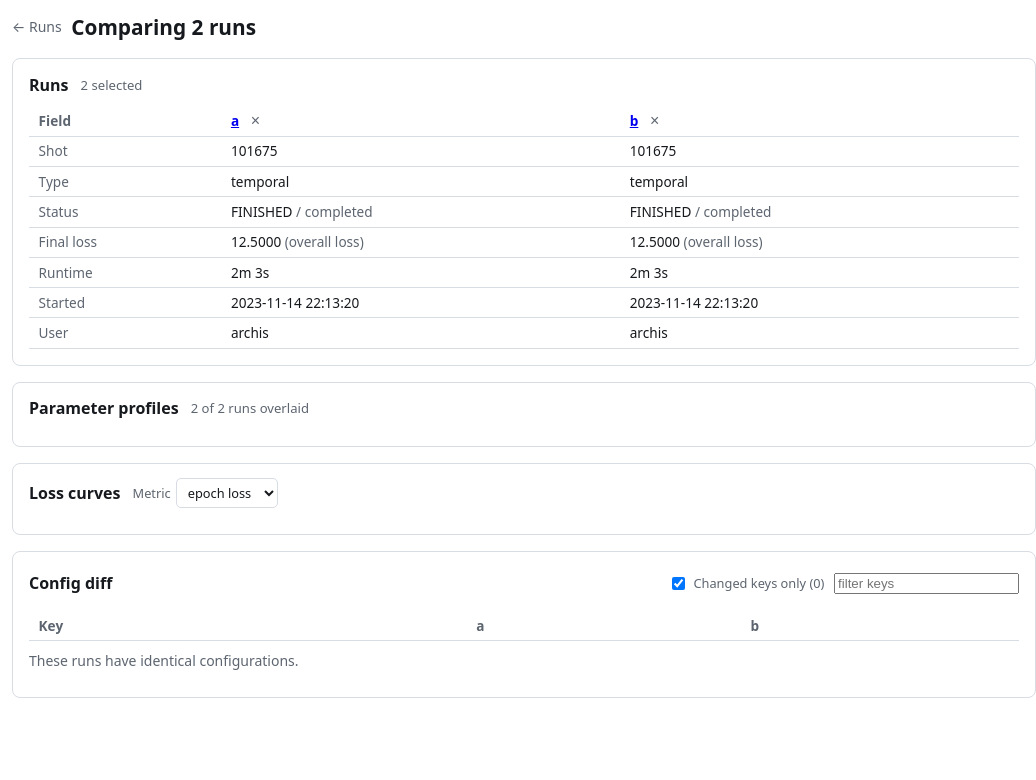
Test: summary table › removing a run rewrites the URL rather than hiding it locally
Check: the heading "Comparing 2 runs" is shown, box [71,12,256,42]
Click the button named "Remove a from the comparison": (255, 121) [245,112,266,130]
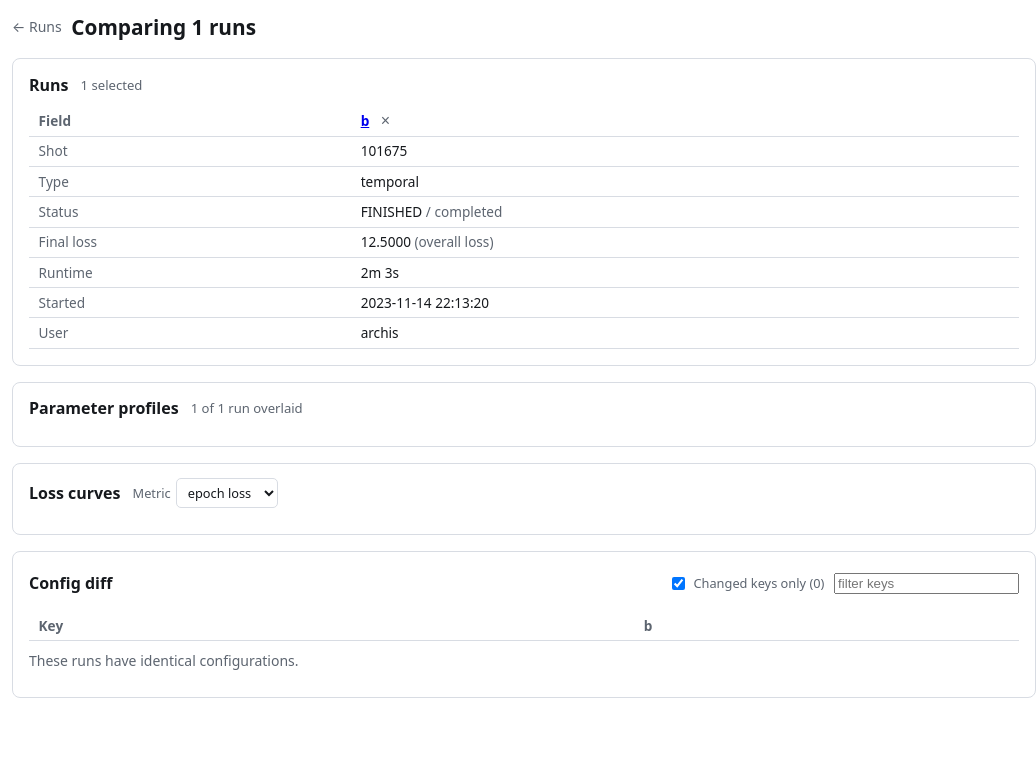
Check: the heading "Comparing 1 runs" is shown, box [71,12,256,42]
